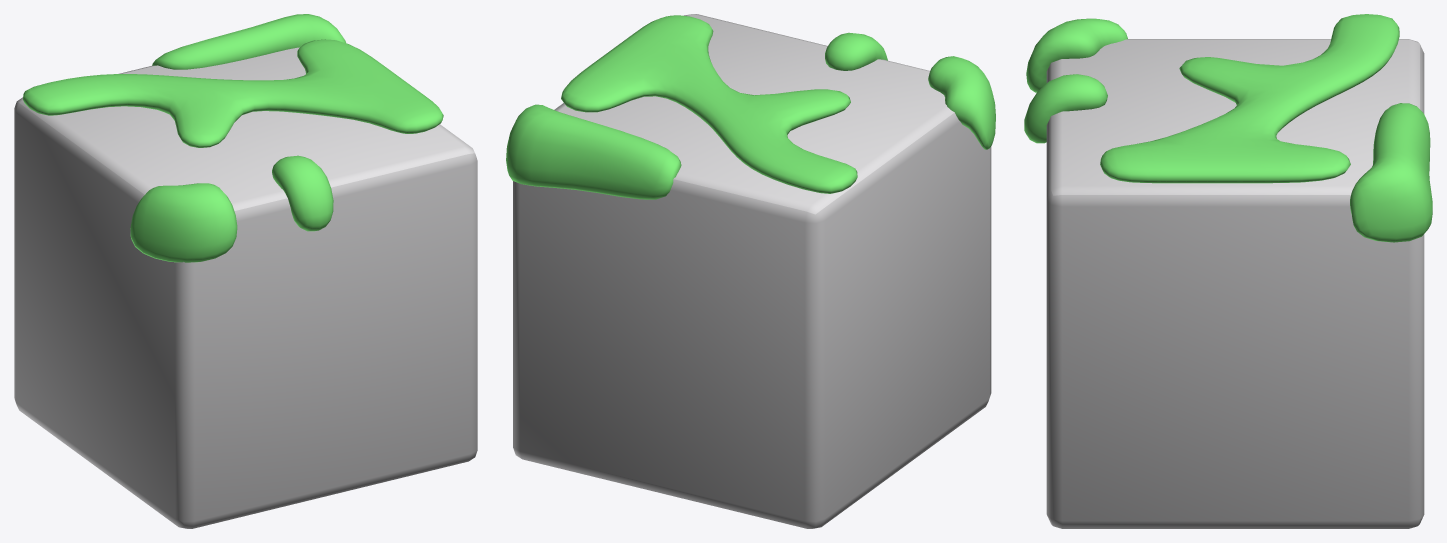
Rendered from uwucube.fbx.
The picture shows the model from 3 angles, left to right: view 1: azimuth 30°, elevation 25°; view 2: azimuth 150°, elevation 25°; view 3: azimuth 270°, elevation 25°; orthographic projection. The views are drawn at different scales.
Visible parts, largest first — view 1: Cube.035; view 2: Cube.035; view 3: Cube.035.
Boxes of the visible parts, x1,y1,x2,y2 form: Cube.035: [14, 14, 477, 528]; Cube.035: [506, 14, 995, 528]; Cube.035: [1024, 14, 1432, 528].
Bounding box in the file's own units: 2.22 × 2.14 × 2.16.
